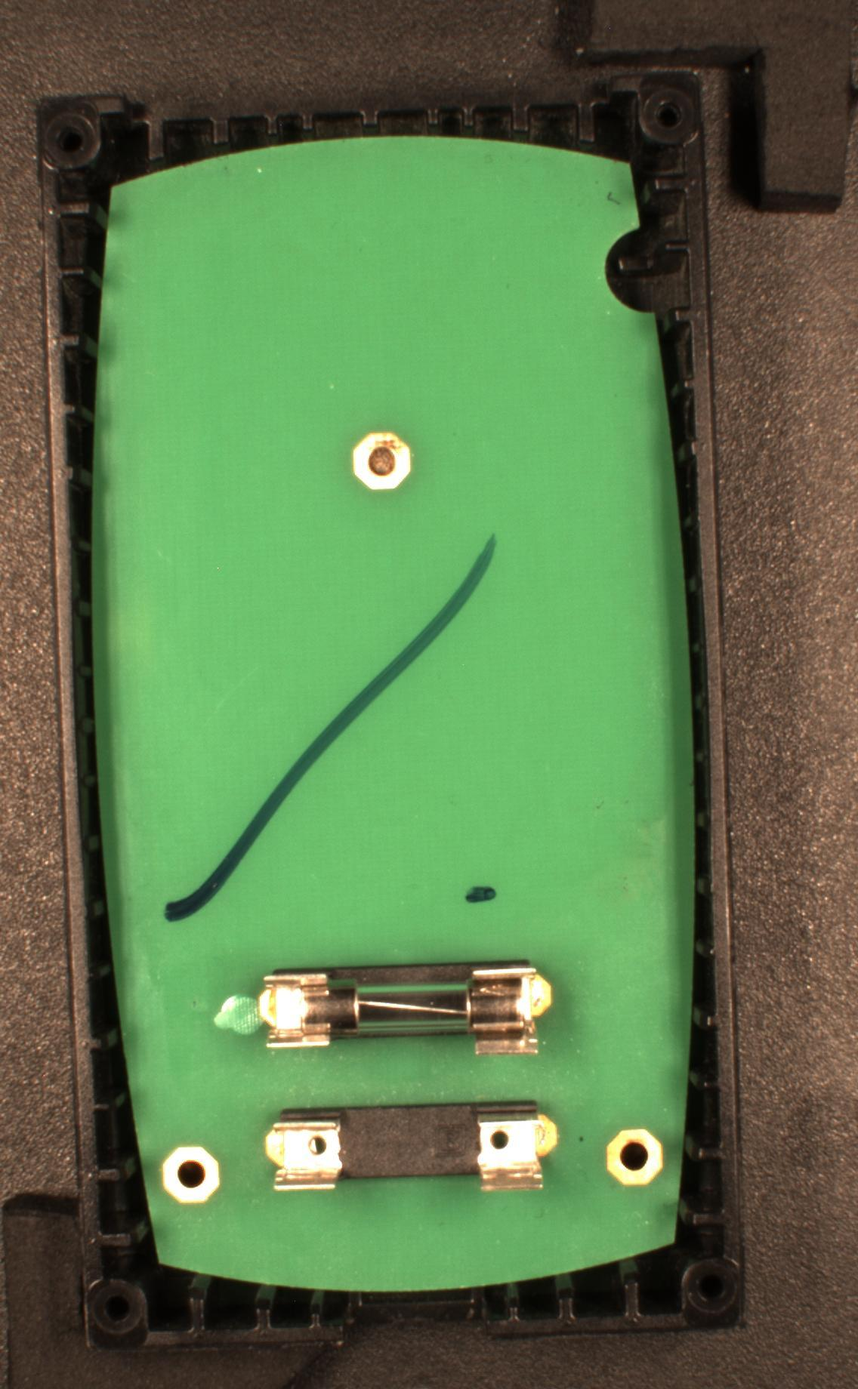Linijsko Ostecene: (163, 532, 499, 925)
Nepostojanje osiguraca: (265, 1098, 560, 1194)
Tockasto Ostecenje: (463, 882, 499, 907)
